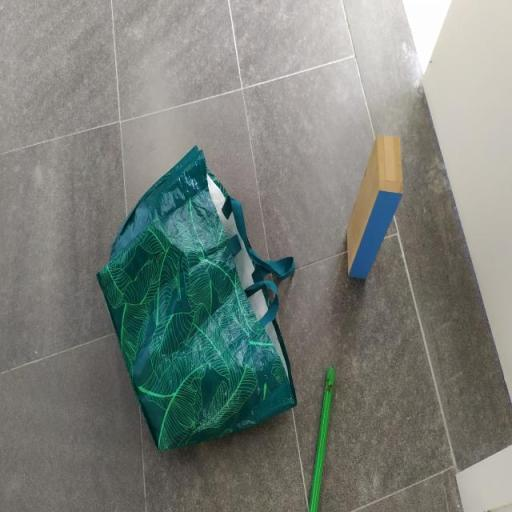bag: (88, 140, 308, 462)
